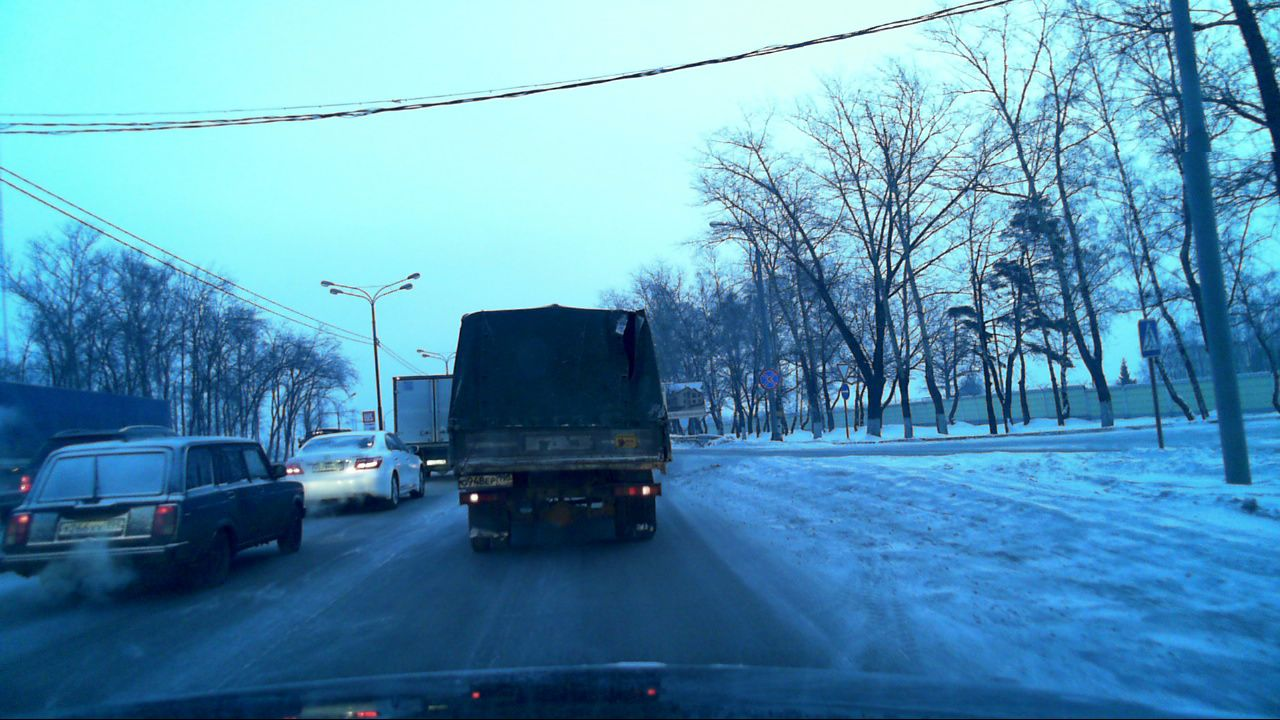No Parking: (759, 369, 778, 389)
